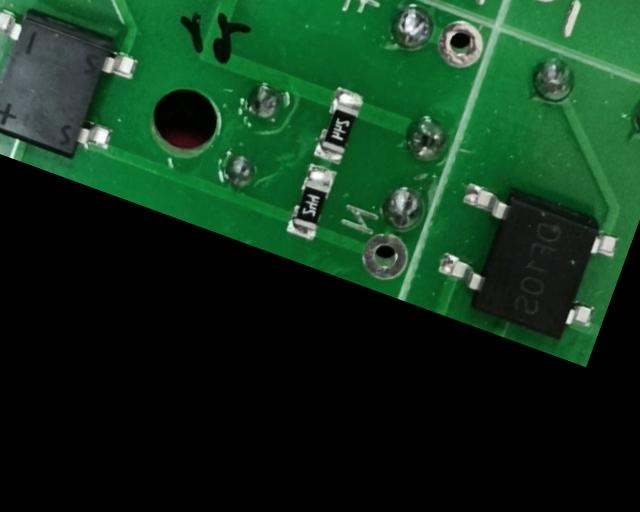chip-resistor: (280, 159, 340, 245), (308, 84, 366, 167)
ic: (420, 168, 627, 353), (0, 0, 145, 174)
